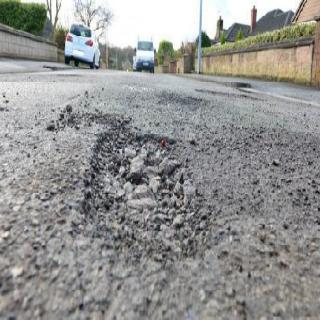pothole: (66, 113, 207, 258)
